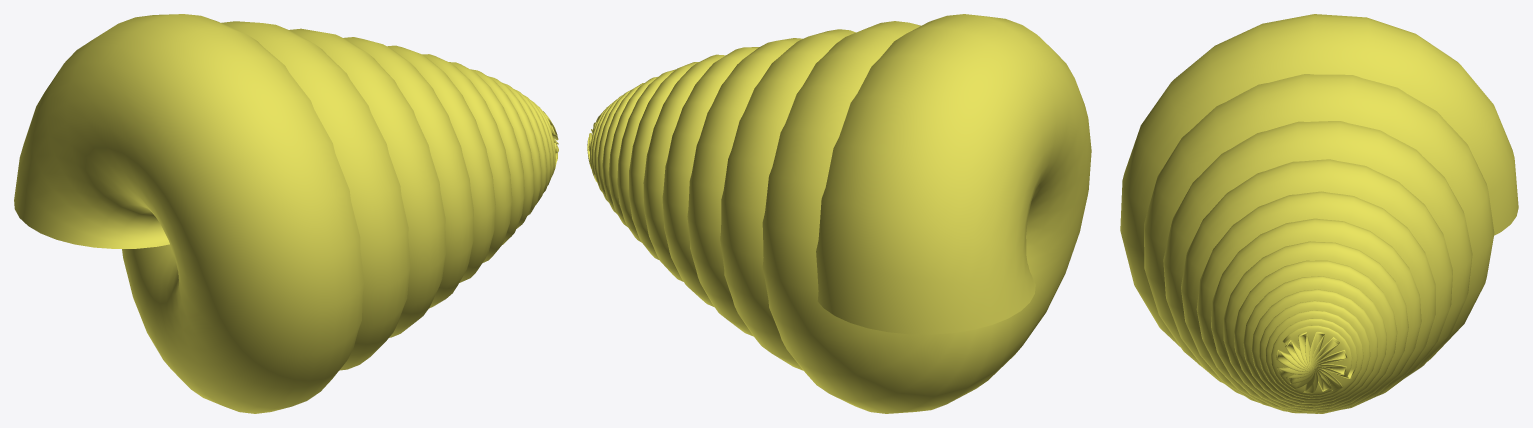
3 renders of one model, left to right at view 1: azimuth 30°, elevation 25°; view 2: azimuth 150°, elevation 25°; view 3: azimuth 270°, elevation 25°, orthographic. The views are drawn at different scales.
Parts seen in each view (by area): view 1: t24; view 2: t24; view 3: t24.
Boxes of the visible parts, x1,y1,x2,y2 form: t24: [14, 14, 558, 413]; t24: [587, 14, 1091, 413]; t24: [1120, 14, 1518, 413].
Bounding box in the file's own units: 500 × 377 × 387.
